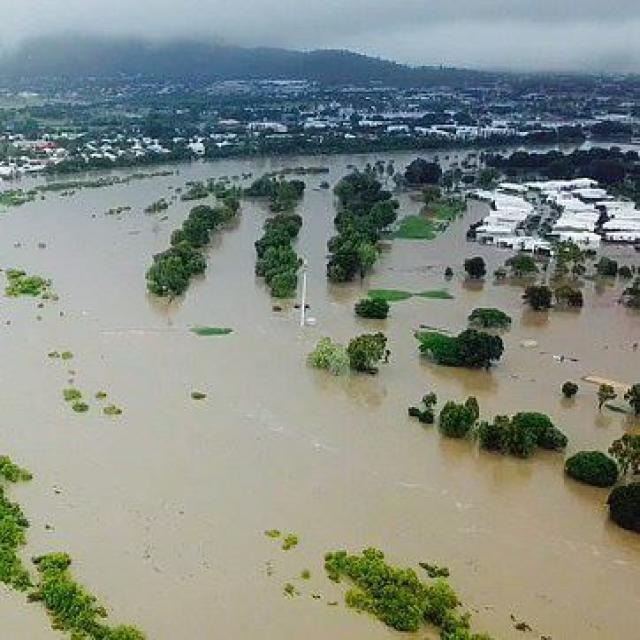flooded_areas: (0, 143, 615, 625)
